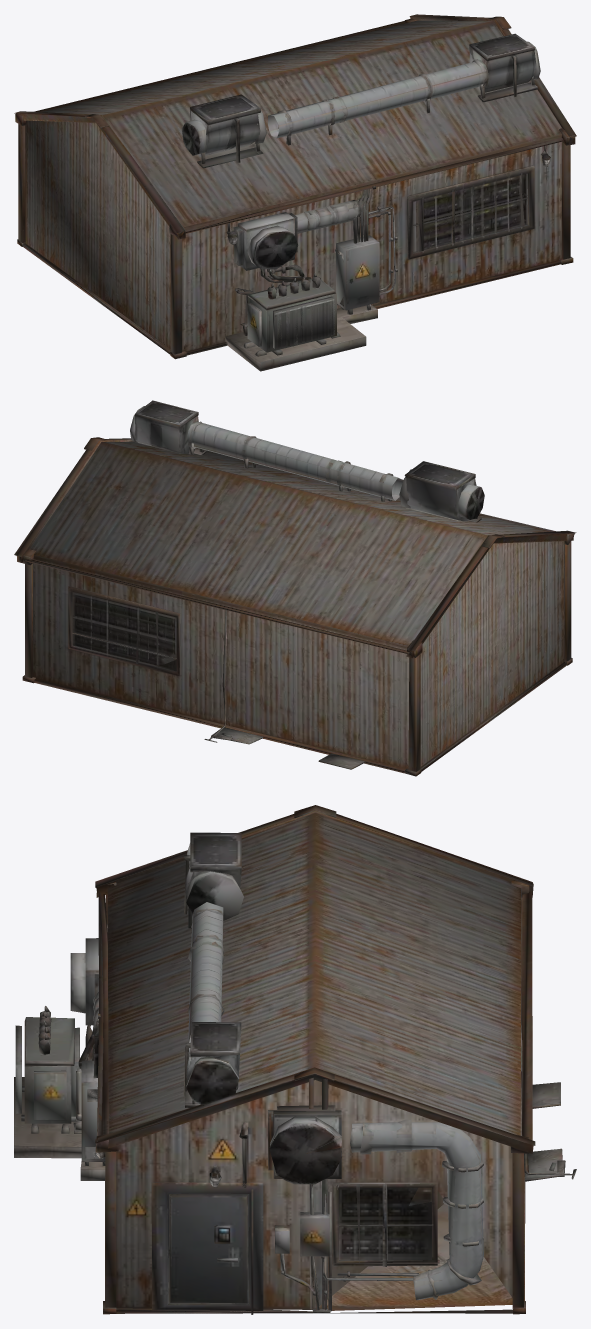
File: asic_farm_shed.glb
3 renders of one model, top to bottom at view 1: azimuth 30°, elevation 25°; view 2: azimuth 150°, elevation 25°; view 3: azimuth 270°, elevation 25°, orthographic. The views are drawn at different scales.
Visible parts, largest first — view 1: Meshy_AI_asic_farm_shed_3d_20261028_texture; view 2: Meshy_AI_asic_farm_shed_3d_20261028_texture; view 3: Meshy_AI_asic_farm_shed_3d_20261028_texture.
Boxes of the visible parts, x1,y1,x2,y2 form: Meshy_AI_asic_farm_shed_3d_20261028_texture: (14, 14, 576, 371); Meshy_AI_asic_farm_shed_3d_20261028_texture: (14, 400, 576, 776); Meshy_AI_asic_farm_shed_3d_20261028_texture: (14, 805, 576, 1314).
Bounding box in the file's own units: 8 × 3.57 × 6.87.
1 material, 1 textured.
